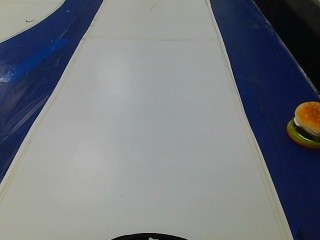burger: (285, 99, 318, 146)
